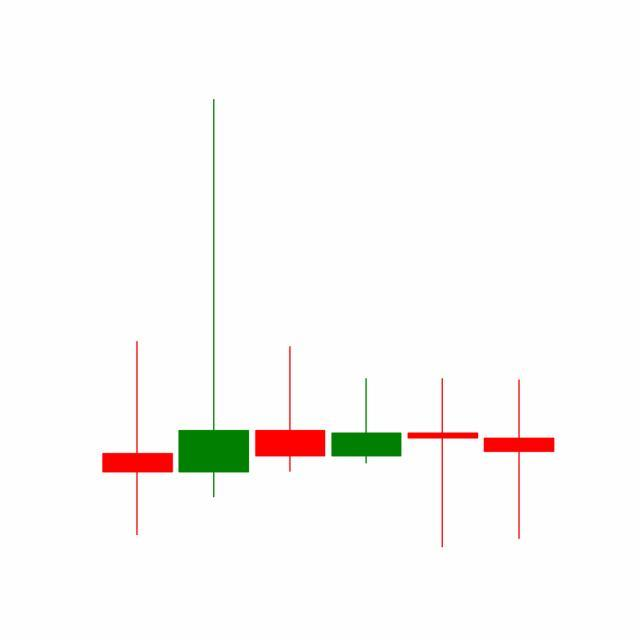Spinning Top: (404, 377, 482, 550)
